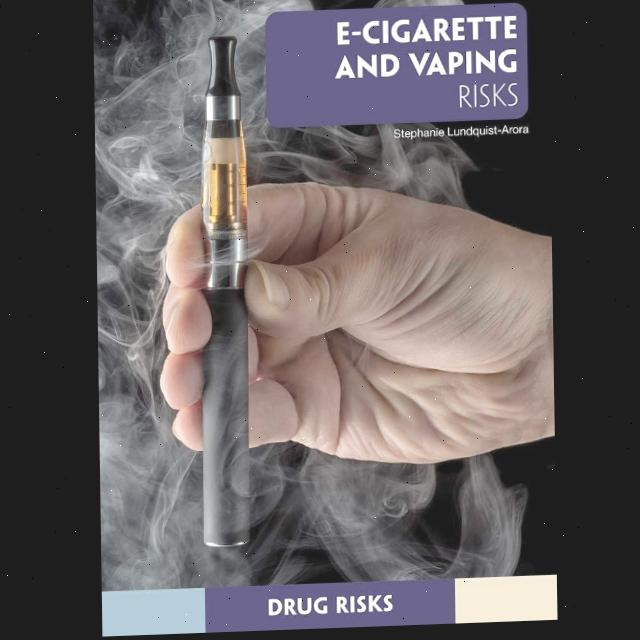vape: (194, 35, 249, 560)
